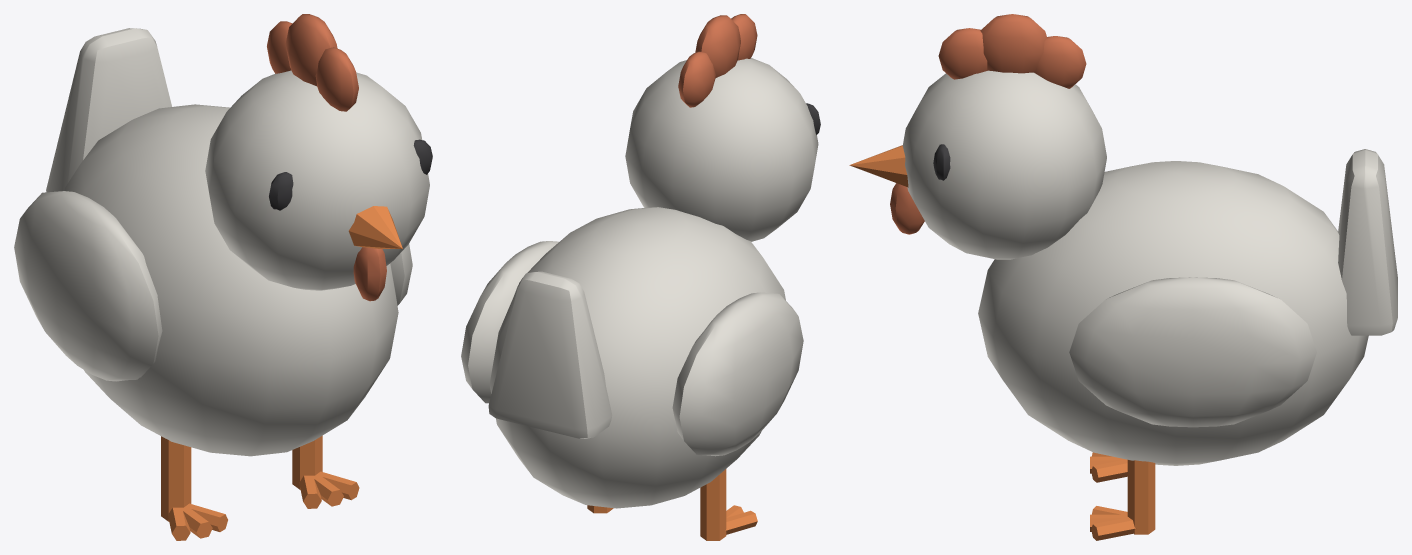
File: hen.glb
The picture shows the model from 3 angles, left to right: view 1: azimuth 30°, elevation 25°; view 2: azimuth 150°, elevation 25°; view 3: azimuth 270°, elevation 25°; orthographic projection. The views are drawn at different scales.
Visible parts, largest first — view 1: sheet, uniform, food_c, shoes; view 2: sheet, food_c, uniform; view 3: sheet, food_c, uniform.
Part boxes in pixels (bbox=[...]): sheet: bbox=[14, 28, 429, 456]; uniform: bbox=[161, 206, 402, 540]; food_c: bbox=[267, 14, 386, 301]; shoes: bbox=[269, 139, 432, 210]; sheet: bbox=[461, 58, 818, 508]; food_c: bbox=[678, 14, 757, 107]; uniform: bbox=[587, 469, 757, 540]; sheet: bbox=[902, 70, 1397, 465]; food_c: bbox=[890, 14, 1086, 234]; uniform: bbox=[849, 145, 1155, 540].
Bounding box in the file's own units: 0.192 × 0.3123 × 0.319.
